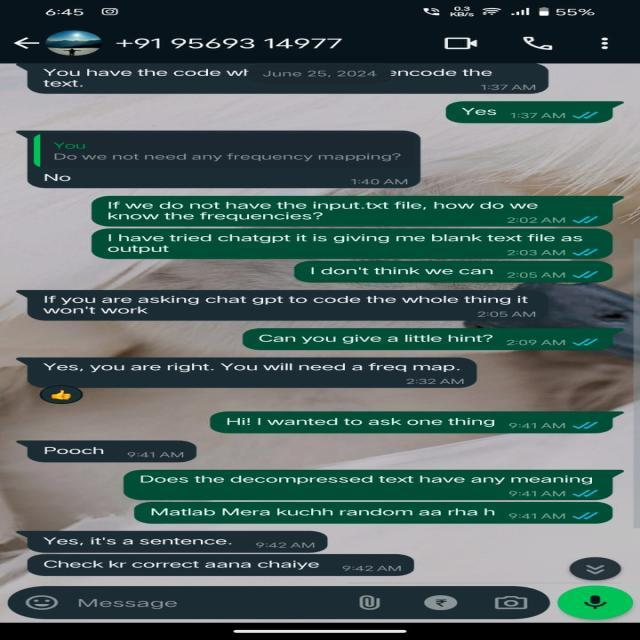scam: (22, 64, 550, 94), (25, 290, 541, 320), (28, 358, 477, 388), (23, 166, 424, 188), (26, 553, 415, 575), (28, 530, 326, 554), (25, 440, 198, 462)
